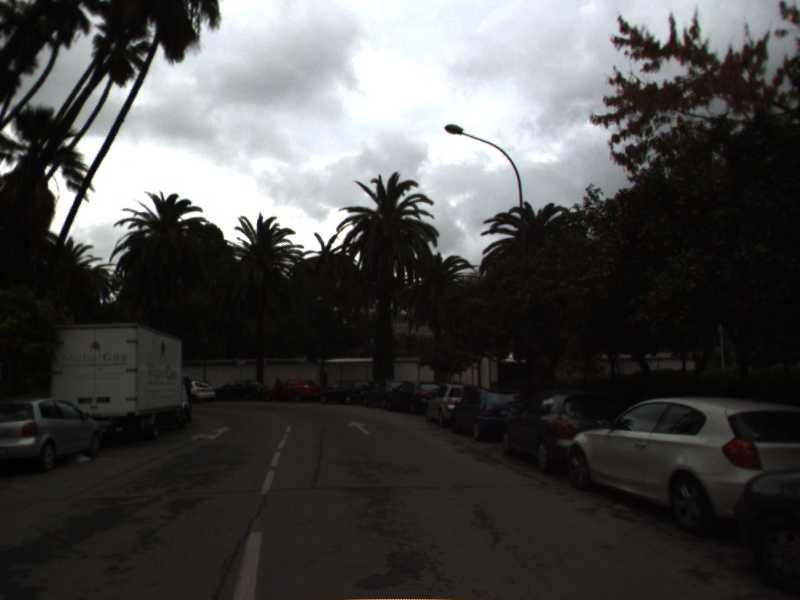STRAIGHT: (346, 418, 373, 437)
STRAIGHT_LEFT: (188, 425, 234, 444)
